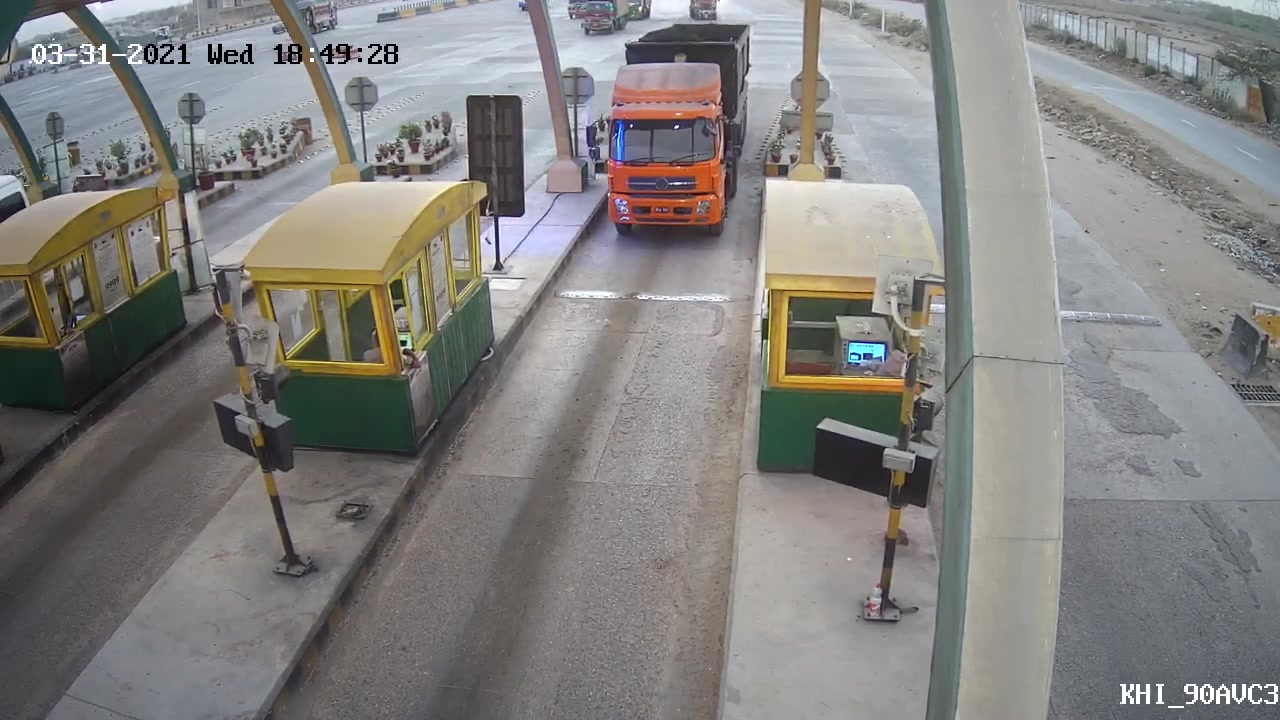F6: (583, 19, 759, 254)
